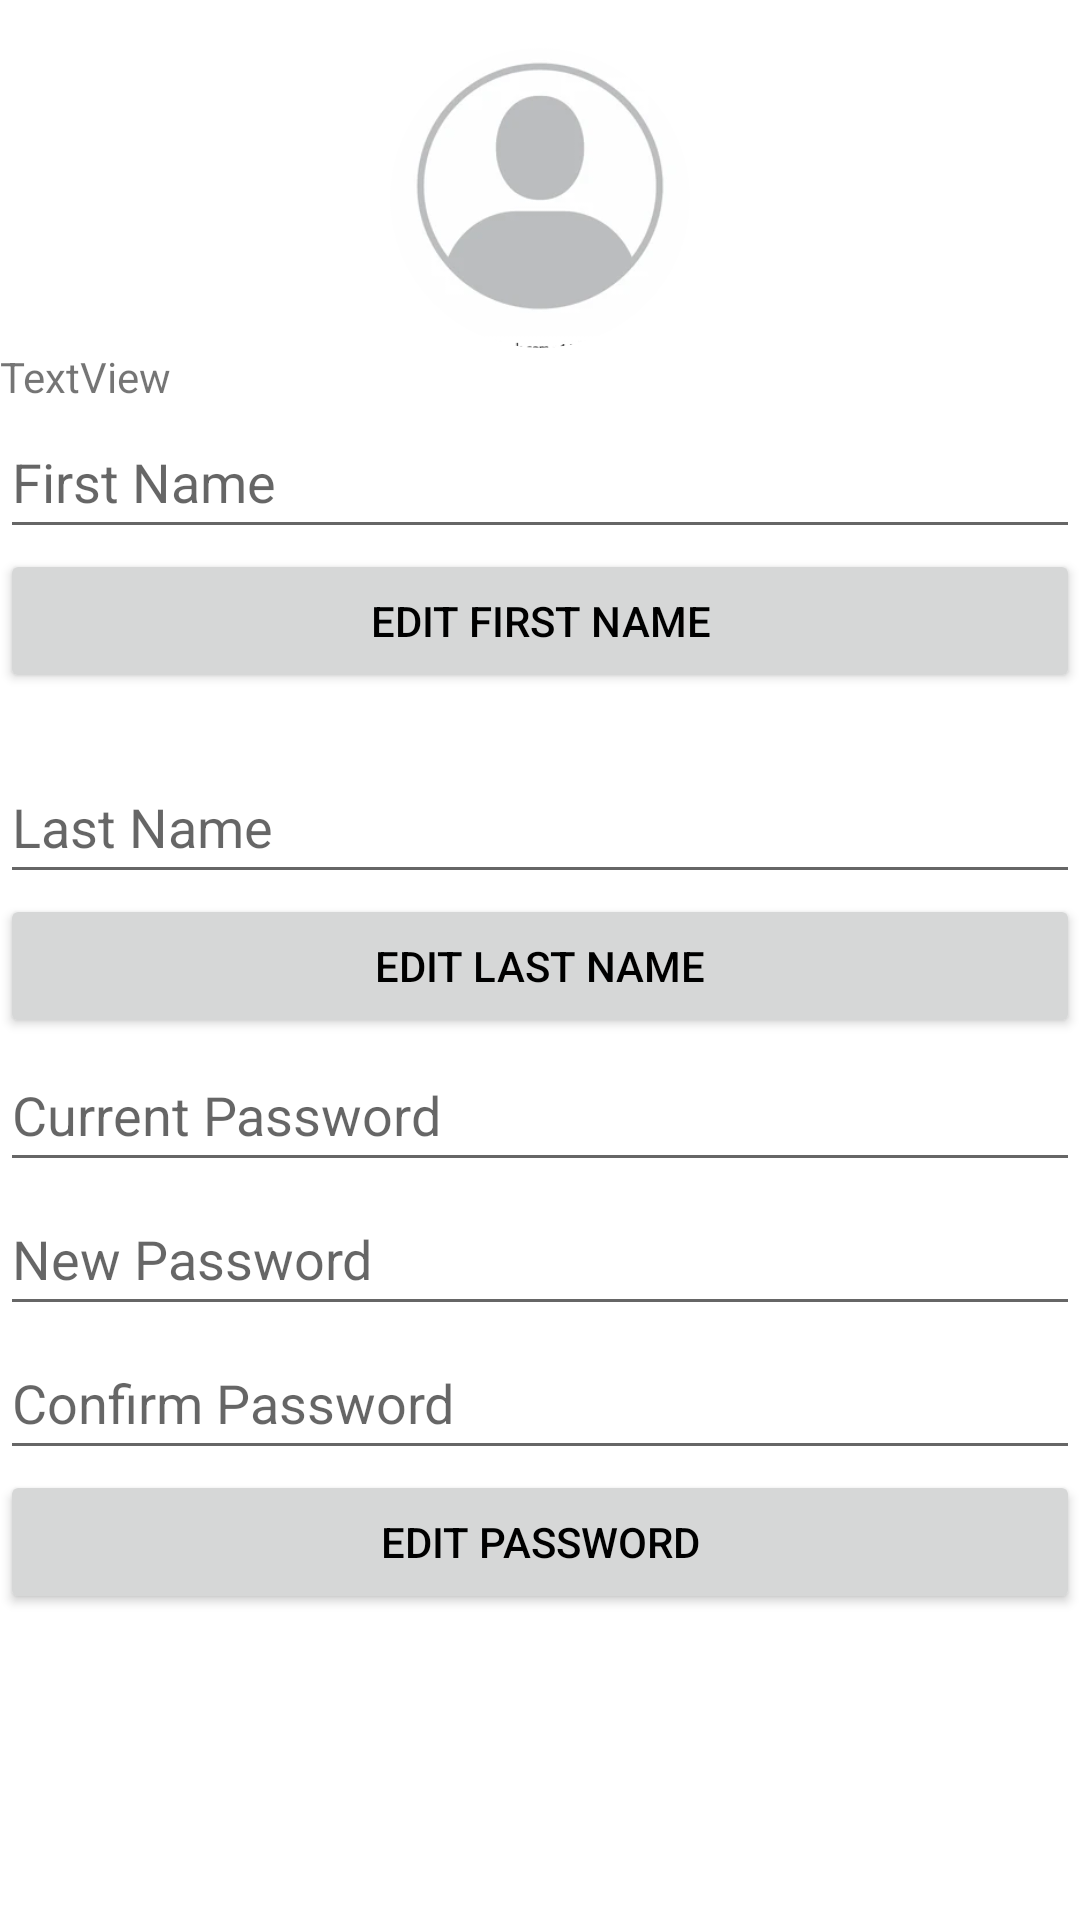

Where to tap for icons on this 1080x1920 app screen, as [x,y]:
Profile Image: [540,205]
